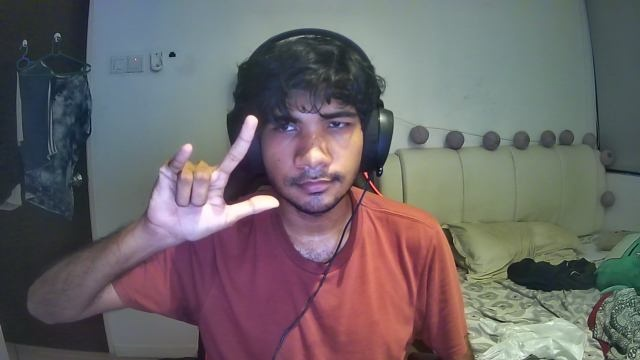I Love You: (133, 110, 283, 245)
